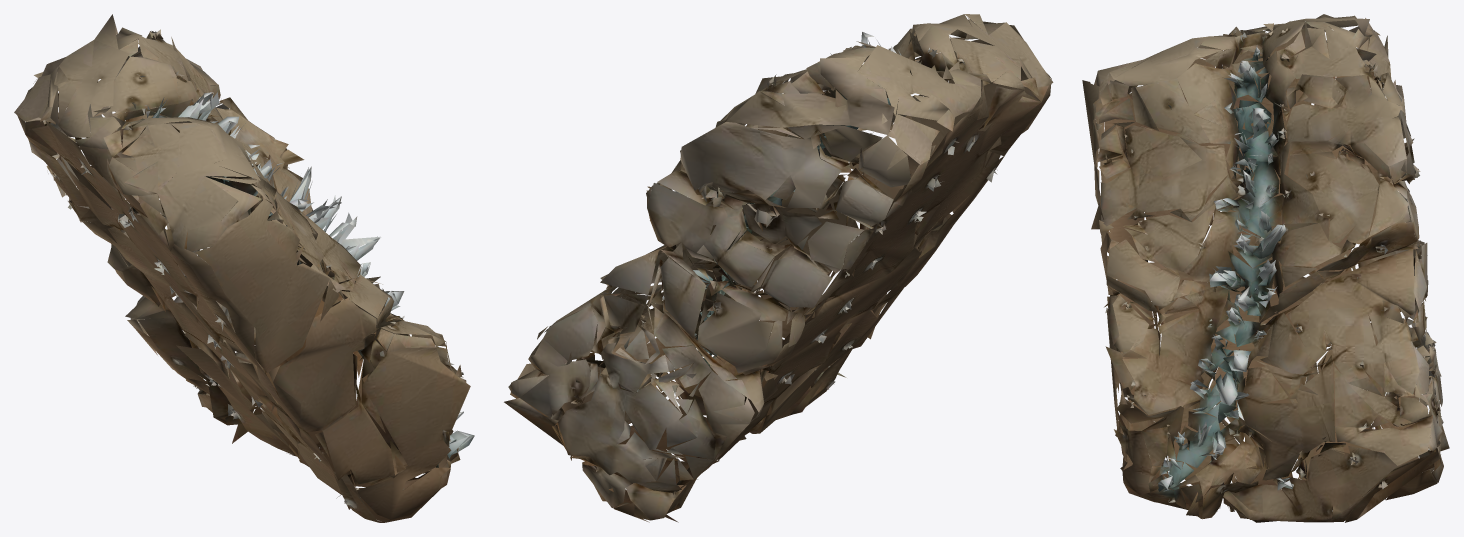
File: cav_resonant_crystal_vein_b_LOD2.glb
3 views of the same model, side by side, from view 1: azimuth 30°, elevation 25°; view 2: azimuth 150°, elevation 25°; view 3: azimuth 270°, elevation 25° (orthographic). The views are drawn at different scales.
Visible parts, largest first — view 1: tripo_node_27db1e25-f410-47bb-be75-9db522baf686; view 2: tripo_node_27db1e25-f410-47bb-be75-9db522baf686; view 3: tripo_node_27db1e25-f410-47bb-be75-9db522baf686.
Boxes of the visible parts, x1,y1,x2,y2 form: tripo_node_27db1e25-f410-47bb-be75-9db522baf686: [14, 14, 474, 522]; tripo_node_27db1e25-f410-47bb-be75-9db522baf686: [504, 14, 1053, 522]; tripo_node_27db1e25-f410-47bb-be75-9db522baf686: [1082, 14, 1449, 522].
Bounding box in the file's own units: 0.8767 × 1.04 × 0.8273.
1 material, 1 textured.
